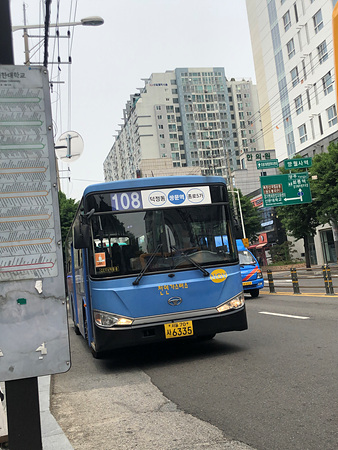bnum: (111, 193, 142, 208)
